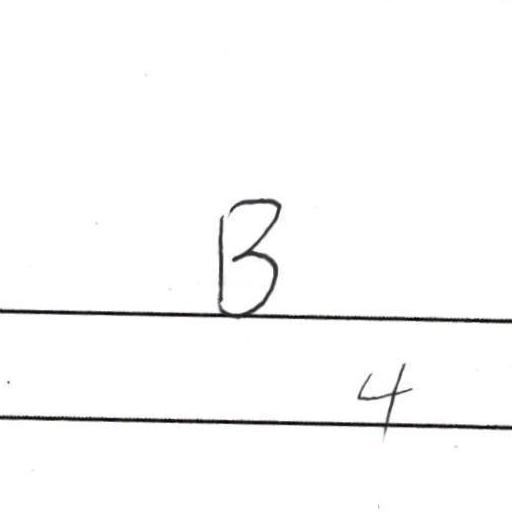ans: (206, 190, 284, 319), (349, 357, 413, 435)
